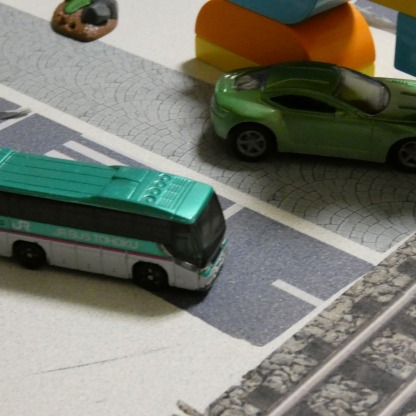car: (0, 144, 226, 297), (210, 58, 416, 177)
